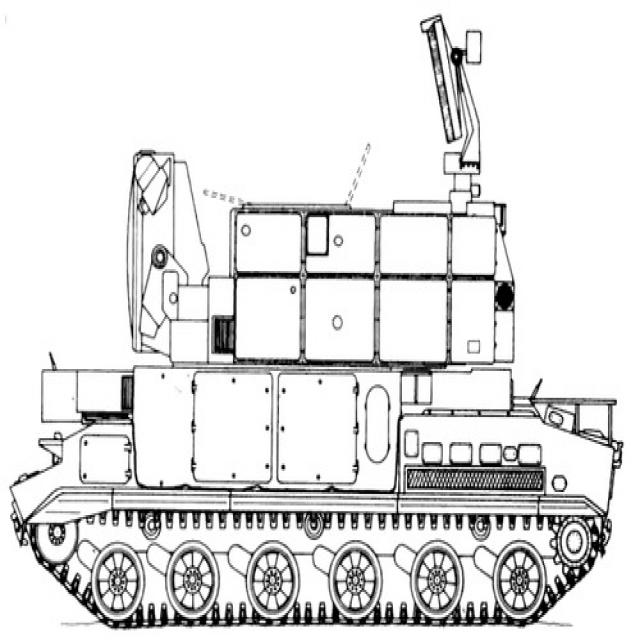MIL_EW_RDR: (10, 16, 623, 627)
